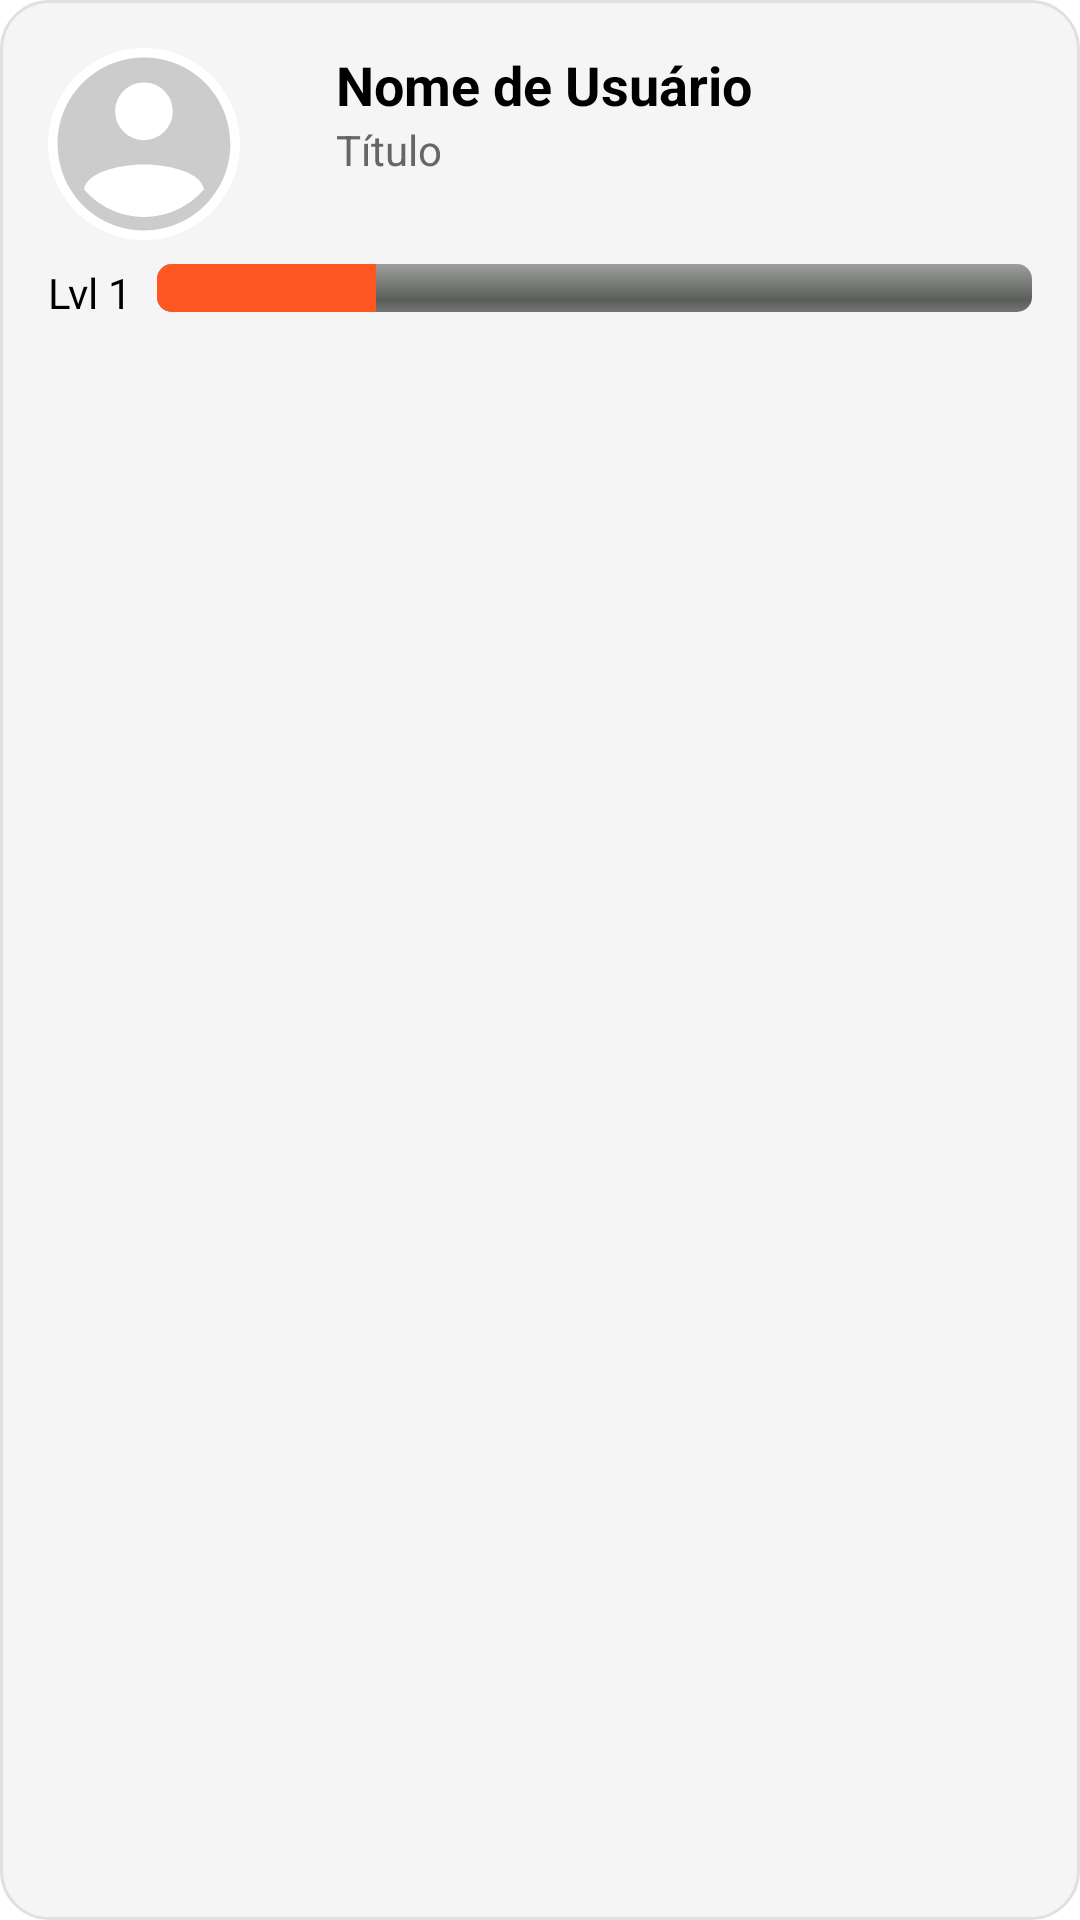

Where to tap for icons on this 1080x1920 app screen, as (x,y):
Profile Pricture: (144,144)
